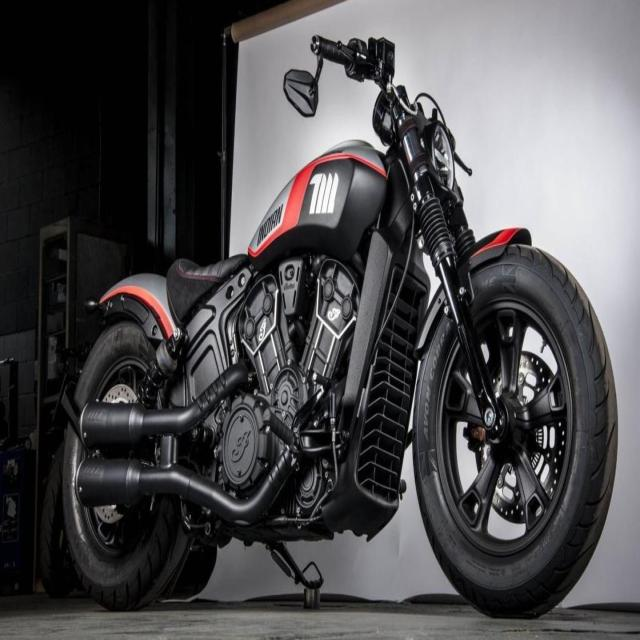motorcycle: (60, 36, 616, 616)
